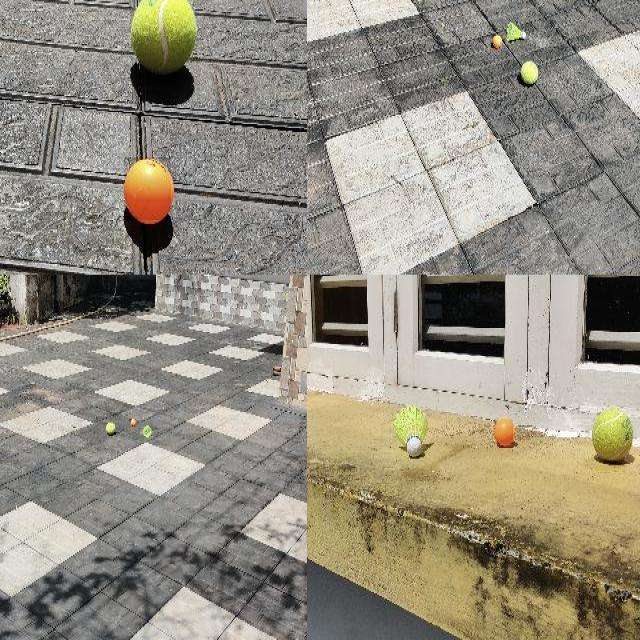ping-pong-ball: (124, 157, 172, 222), (494, 419, 514, 445), (492, 35, 500, 48), (129, 418, 137, 425)
